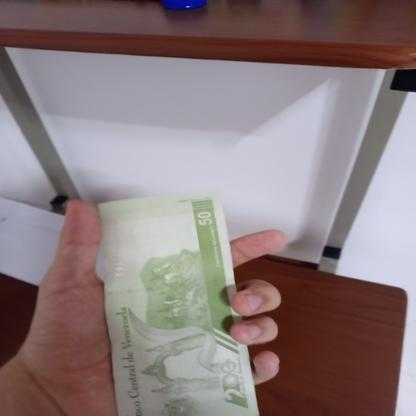fifty-back-vef: (96, 192, 259, 416)
